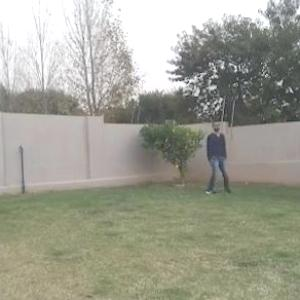follow: (209, 116, 228, 195)
